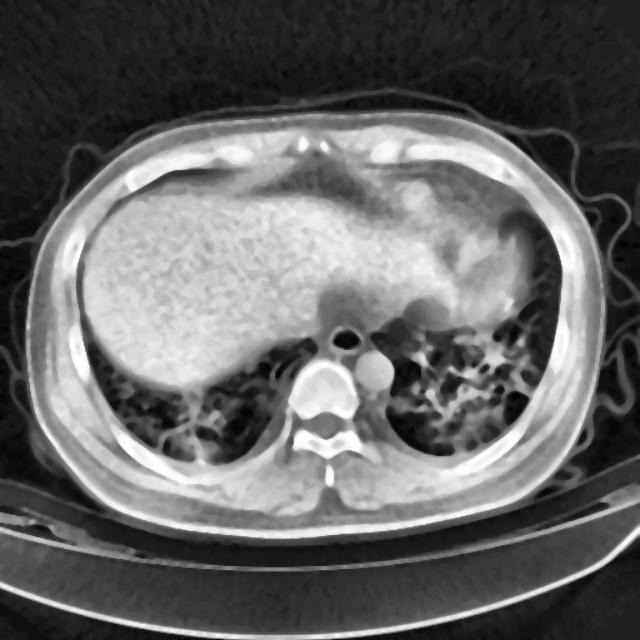covid: (24, 107, 607, 541)
